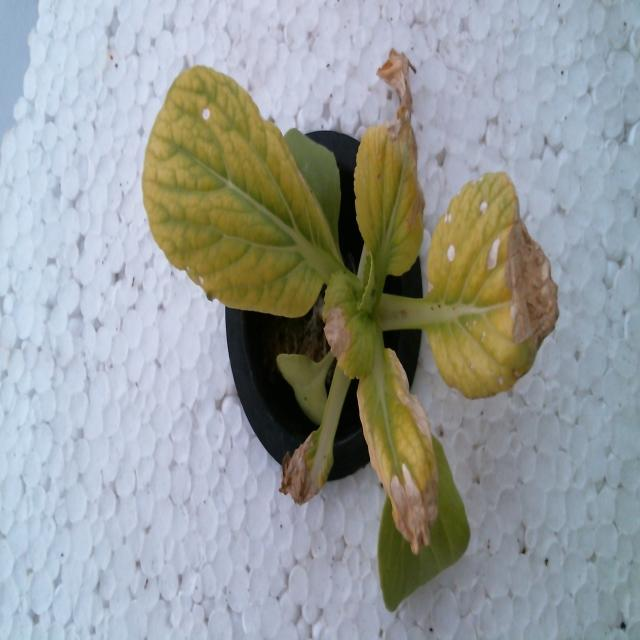pakcoy_tidak_sehat: (127, 35, 576, 619)
